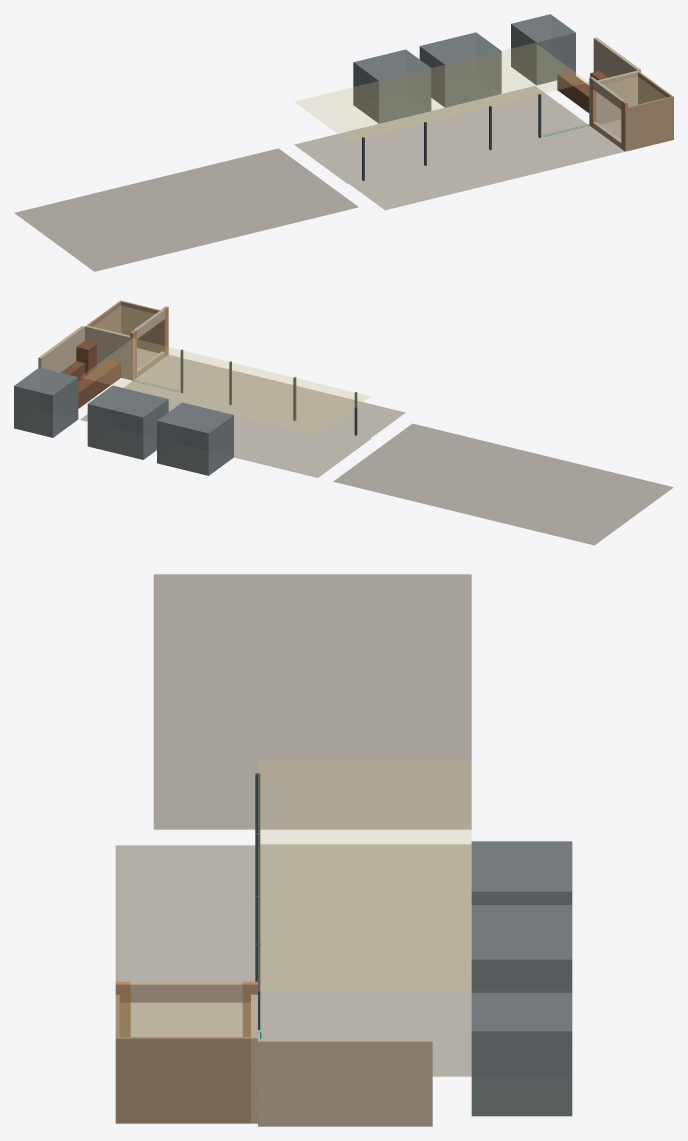
The model's file is rooftop_truth_model_v02_mm.obj.
3 renders of one model, top to bottom at view 1: azimuth 30°, elevation 25°; view 2: azimuth 150°, elevation 25°; view 3: azimuth 270°, elevation 25°, orthographic. The views are drawn at different scales.
Visible parts, largest first — view 1: west_unroofed_terrace, ceiling_level_2_main, main_hall_floor, south_mountain_terrace_band, core_toilet, core_stair, core_elevator, east_transition_floor, tea_terrace_boundary_wall, tea_bar_shared_wall, equipment_background_wall, ceiling_level_1_tea_room (+2 smaller); view 2: west_unroofed_terrace, ceiling_level_2_main, south_mountain_terrace_band, main_hall_floor, core_toilet, core_stair, core_elevator, tea_bar_shared_wall, tea_terrace_boundary_wall, equipment_background_wall, bar_body_fixed_run, ceiling_level_1_tea_room (+3 smaller); view 3: west_unroofed_terrace, ceiling_level_2_main, main_hall_floor, south_mountain_terrace_band, equipment_background_wall, core_elevator, tea_background_wall, core_stair, core_toilet, ceiling_level_1_tea_room, east_transition_floor, tea_window_head_wall (+1 smaller).
Boxes of the visible parts, x1,y1,x2,y2 form: west_unroofed_terrace: (14,148,358,271); ceiling_level_2_main: (294,43,588,140); main_hall_floor: (294,97,543,183); south_mountain_terrace_band: (349,125,624,210); core_toilet: (353,49,431,123); core_stair: (419,32,501,107); core_elevator: (511,14,575,85); east_transition_floor: (490,86,588,136); tea_terrace_boundary_wall: (624,96,673,151); tea_bar_shared_wall: (589,70,639,126); equipment_background_wall: (593,37,640,77); ceiling_level_1_tea_room: (604,76,665,106); west_unroofed_terrace: (333,423,673,545); ceiling_level_2_main: (80,338,370,434); south_mountain_terrace_band: (133,355,405,438); main_hall_floor: (168,392,370,477); core_toilet: (157,402,233,475); core_stair: (87,385,168,459); core_elevator: (14,367,78,437); tea_bar_shared_wall: (85,325,134,380); tea_terrace_boundary_wall: (120,300,168,353); equipment_background_wall: (38,326,84,372); bar_body_fixed_run: (78,359,120,404); ceiling_level_1_tea_room: (93,306,154,335); west_unroofed_terrace: (153,574,471,829); ceiling_level_2_main: (258,759,471,991); main_hall_floor: (258,844,471,1032); south_mountain_terrace_band: (115,845,255,1036); equipment_background_wall: (258,1038,432,1126); core_elevator: (471,993,572,1116); tea_background_wall: (116,1037,257,1123); core_stair: (471,905,572,992); core_toilet: (471,841,572,904); ceiling_level_1_tea_room: (120,1003,250,1036); east_transition_floor: (258,1032,471,1076); tea_window_head_wall: (130,981,242,1002).
Bounding box in the file's own units: 37640 × 3020 × 13160.
